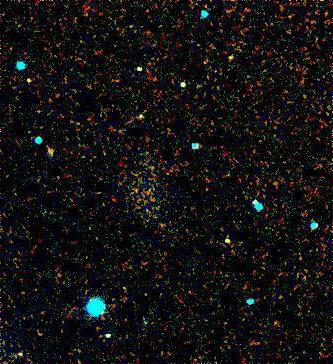star: (128, 103, 158, 133)
